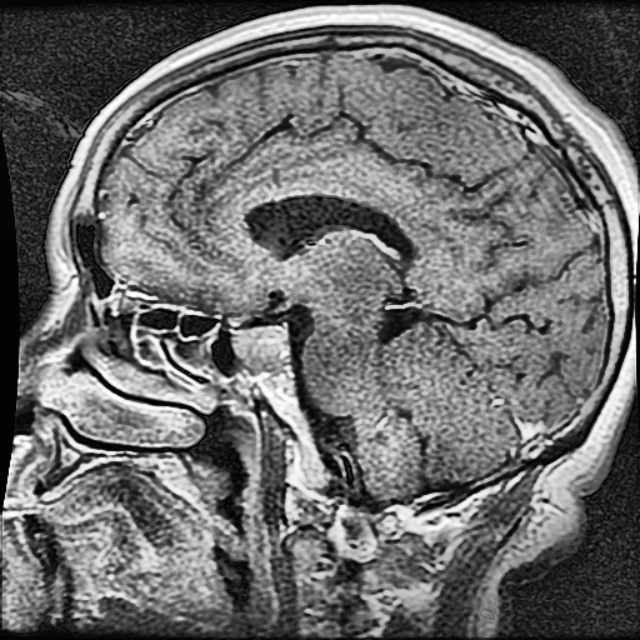Pituitary: (233, 323, 294, 373)
